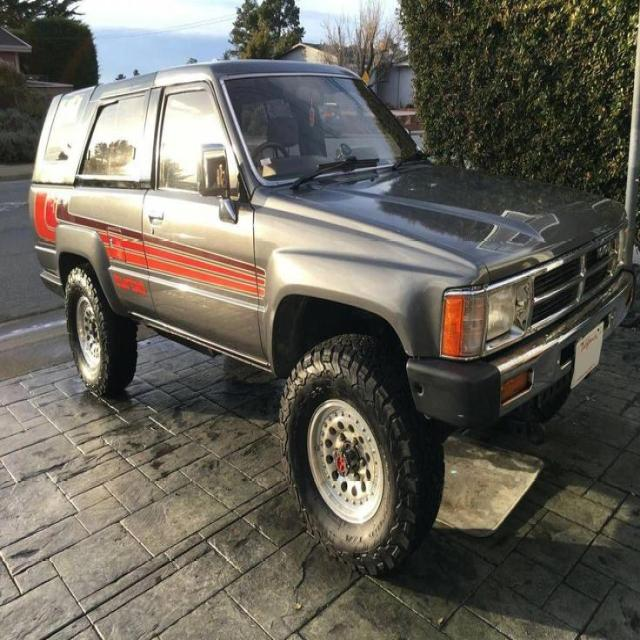light_vehicle: (26, 53, 632, 566)
